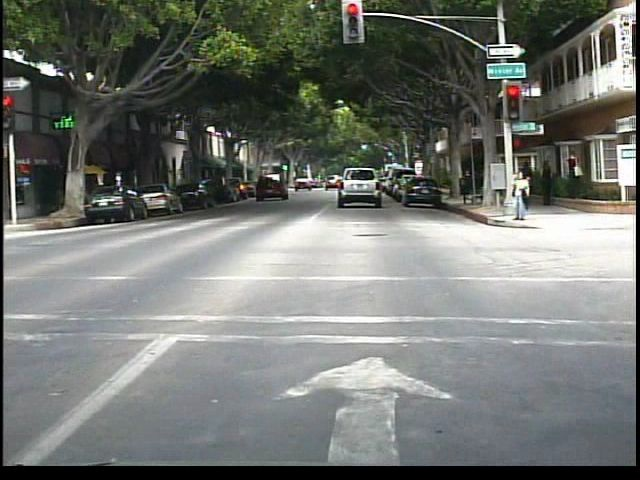person: (505, 168, 532, 224), (536, 158, 557, 213), (563, 149, 585, 200), (517, 157, 535, 206)
